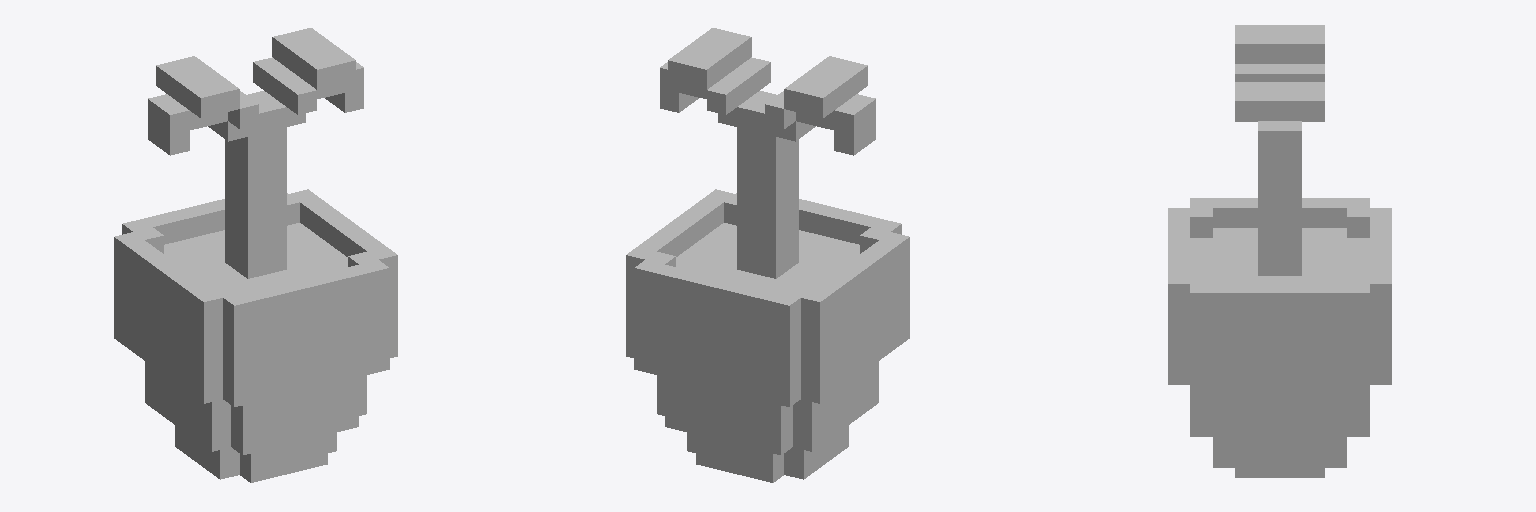
File: Flower.obj
3 views of the same model, side by side, from view 1: azimuth 30°, elevation 25°; view 2: azimuth 150°, elevation 25°; view 3: azimuth 270°, elevation 25° (orthographic).
Parts seen in each view (by area): view 1: Flower; view 2: Flower; view 3: Flower.
Boxes of the visible parts, x1=… form: Flower: x1=114, y1=28, x2=397, y2=482; Flower: x1=626, y1=28, x2=909, y2=482; Flower: x1=1168, y1=25, x2=1391, y2=477.
Size of the model in its own units: 10 by 19 by 10.